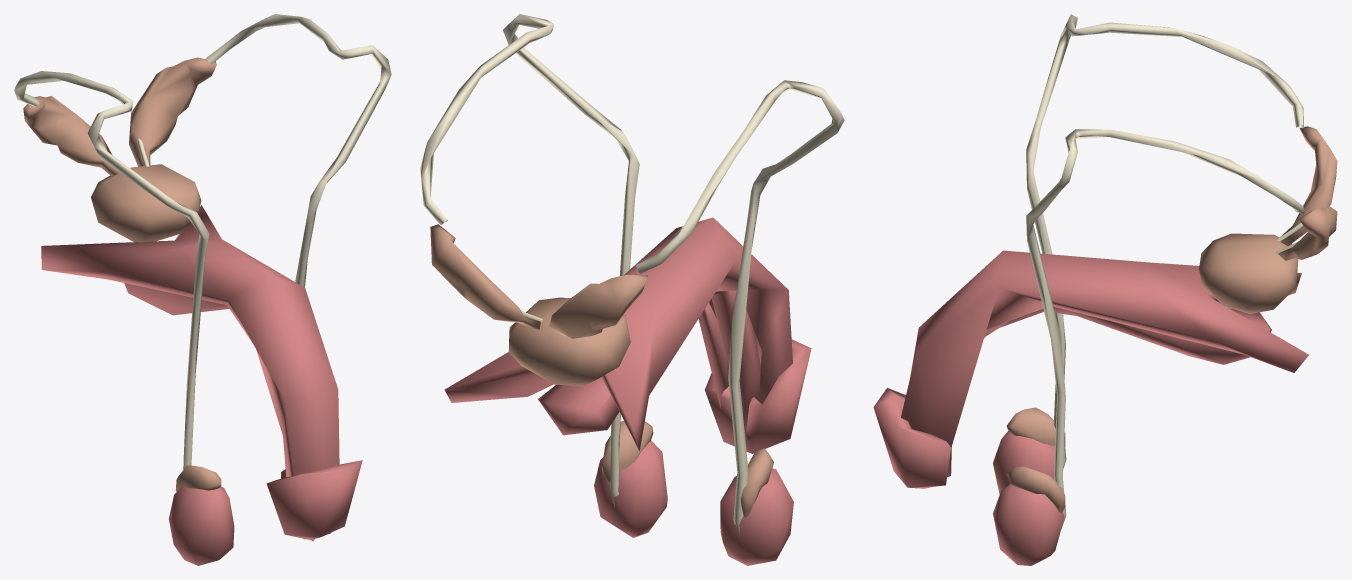
Rendered from adult_male.reproductive.LOD3.glb.
3 views of the same model, side by side, from view 1: azimuth 30°, elevation 25°; view 2: azimuth 150°, elevation 25°; view 3: azimuth 270°, elevation 25° (orthographic). The views are drawn at different scales.
Visible parts, largest first — view 1: ADULT.MALE.REPRODUCTIVE.CORPUS_CAVERNOSUM_OF_PENIS, ADULT.MALE.REPRODUCTIVE.PROSTATE, ADULT.MALE.REPRODUCTIVE.DUCTUS_DEFERENS.R, ADULT.MALE.REPRODUCTIVE.GLANS_PENIS, ADULT.MALE.REPRODUCTIVE.SEMINAL_GLAND.L, ADULT.MALE.REPRODUCTIVE.TESTIS, ADULT.MALE.REPRODUCTIVE.DUCTUS_DEFERENS.L, ADULT.MALE.REPRODUCTIVE.SEMINAL_GLAND.R, ADULT.MALE.REPRODUCTIVE.CORPUS_SPONGIOSUM_OF_PENIS, ADULT.MALE.REPRODUCTIVE.EPIDIDYMIS.R; view 2: ADULT.MALE.REPRODUCTIVE.CORPUS_CAVERNOSUM_OF_PENIS, ADULT.MALE.REPRODUCTIVE.DUCTUS_DEFERENS.R, ADULT.MALE.REPRODUCTIVE.DUCTUS_DEFERENS.L, ADULT.MALE.REPRODUCTIVE.PROSTATE, ADULT.MALE.REPRODUCTIVE.CORPUS_SPONGIOSUM_OF_PENIS, ADULT.MALE.REPRODUCTIVE.GLANS_PENIS, ADULT.MALE.REPRODUCTIVE.TESTIS, ADULT.MALE.REPRODUCTIVE.TESTIS.L, ADULT.MALE.REPRODUCTIVE.SEMINAL_GLAND.R, ADULT.MALE.REPRODUCTIVE.SEMINAL_GLAND.L, ADULT.MALE.REPRODUCTIVE.EPIDIDYMIS.L, ADULT.MALE.REPRODUCTIVE.EPIDIDYMIS.R; view 3: ADULT.MALE.REPRODUCTIVE.CORPUS_CAVERNOSUM_OF_PENIS, ADULT.MALE.REPRODUCTIVE.PROSTATE, ADULT.MALE.REPRODUCTIVE.DUCTUS_DEFERENS.L, ADULT.MALE.REPRODUCTIVE.DUCTUS_DEFERENS.R, ADULT.MALE.REPRODUCTIVE.GLANS_PENIS, ADULT.MALE.REPRODUCTIVE.TESTIS.L, ADULT.MALE.REPRODUCTIVE.CORPUS_SPONGIOSUM_OF_PENIS, ADULT.MALE.REPRODUCTIVE.SEMINAL_GLAND.R, ADULT.MALE.REPRODUCTIVE.TESTIS, ADULT.MALE.REPRODUCTIVE.SEMINAL_GLAND.L, ADULT.MALE.REPRODUCTIVE.EPIDIDYMIS.R, ADULT.MALE.REPRODUCTIVE.EPIDIDYMIS.L.
Part boxes in pixels (x1,y1,x2,y2): ADULT.MALE.REPRODUCTIVE.CORPUS_CAVERNOSUM_OF_PENIS: [41, 205, 339, 541]; ADULT.MALE.REPRODUCTIVE.PROSTATE: [91, 164, 201, 242]; ADULT.MALE.REPRODUCTIVE.DUCTUS_DEFERENS.R: [14, 71, 209, 469]; ADULT.MALE.REPRODUCTIVE.GLANS_PENIS: [266, 460, 362, 539]; ADULT.MALE.REPRODUCTIVE.SEMINAL_GLAND.L: [129, 57, 216, 166]; ADULT.MALE.REPRODUCTIVE.TESTIS: [168, 485, 234, 565]; ADULT.MALE.REPRODUCTIVE.DUCTUS_DEFERENS.L: [205, 14, 391, 287]; ADULT.MALE.REPRODUCTIVE.SEMINAL_GLAND.R: [23, 95, 119, 176]; ADULT.MALE.REPRODUCTIVE.CORPUS_SPONGIOSUM_OF_PENIS: [124, 283, 229, 315]; ADULT.MALE.REPRODUCTIVE.EPIDIDYMIS.R: [175, 465, 221, 491]; ADULT.MALE.REPRODUCTIVE.CORPUS_CAVERNOSUM_OF_PENIS: [444, 217, 792, 450]; ADULT.MALE.REPRODUCTIVE.DUCTUS_DEFERENS.R: [635, 80, 844, 537]; ADULT.MALE.REPRODUCTIVE.DUCTUS_DEFERENS.L: [420, 14, 639, 506]; ADULT.MALE.REPRODUCTIVE.PROSTATE: [508, 297, 630, 385]; ADULT.MALE.REPRODUCTIVE.CORPUS_SPONGIOSUM_OF_PENIS: [538, 290, 760, 443]; ADULT.MALE.REPRODUCTIVE.GLANS_PENIS: [705, 339, 811, 453]; ADULT.MALE.REPRODUCTIVE.TESTIS: [720, 468, 793, 565]; ADULT.MALE.REPRODUCTIVE.TESTIS.L: [594, 440, 667, 537]; ADULT.MALE.REPRODUCTIVE.SEMINAL_GLAND.R: [549, 275, 647, 338]; ADULT.MALE.REPRODUCTIVE.SEMINAL_GLAND.L: [430, 224, 540, 329]; ADULT.MALE.REPRODUCTIVE.EPIDIDYMIS.L: [602, 420, 653, 483]; ADULT.MALE.REPRODUCTIVE.EPIDIDYMIS.R: [741, 448, 773, 517]; ADULT.MALE.REPRODUCTIVE.CORPUS_CAVERNOSUM_OF_PENIS: [901, 250, 1308, 448]; ADULT.MALE.REPRODUCTIVE.PROSTATE: [1199, 233, 1298, 314]; ADULT.MALE.REPRODUCTIVE.DUCTUS_DEFERENS.L: [1026, 129, 1304, 528]; ADULT.MALE.REPRODUCTIVE.DUCTUS_DEFERENS.R: [1026, 14, 1304, 468]; ADULT.MALE.REPRODUCTIVE.GLANS_PENIS: [873, 388, 950, 488]; ADULT.MALE.REPRODUCTIVE.TESTIS.L: [993, 483, 1064, 565]; ADULT.MALE.REPRODUCTIVE.CORPUS_SPONGIOSUM_OF_PENIS: [947, 306, 1271, 477]; ADULT.MALE.REPRODUCTIVE.SEMINAL_GLAND.R: [1280, 126, 1337, 245]; ADULT.MALE.REPRODUCTIVE.TESTIS: [993, 431, 1063, 494]; ADULT.MALE.REPRODUCTIVE.SEMINAL_GLAND.L: [1278, 206, 1337, 260]; ADULT.MALE.REPRODUCTIVE.EPIDIDYMIS.R: [1006, 407, 1065, 445]; ADULT.MALE.REPRODUCTIVE.EPIDIDYMIS.L: [1006, 466, 1065, 513].
Bounding box in the file's own units: 0.113 × 0.1657 × 0.1508.
